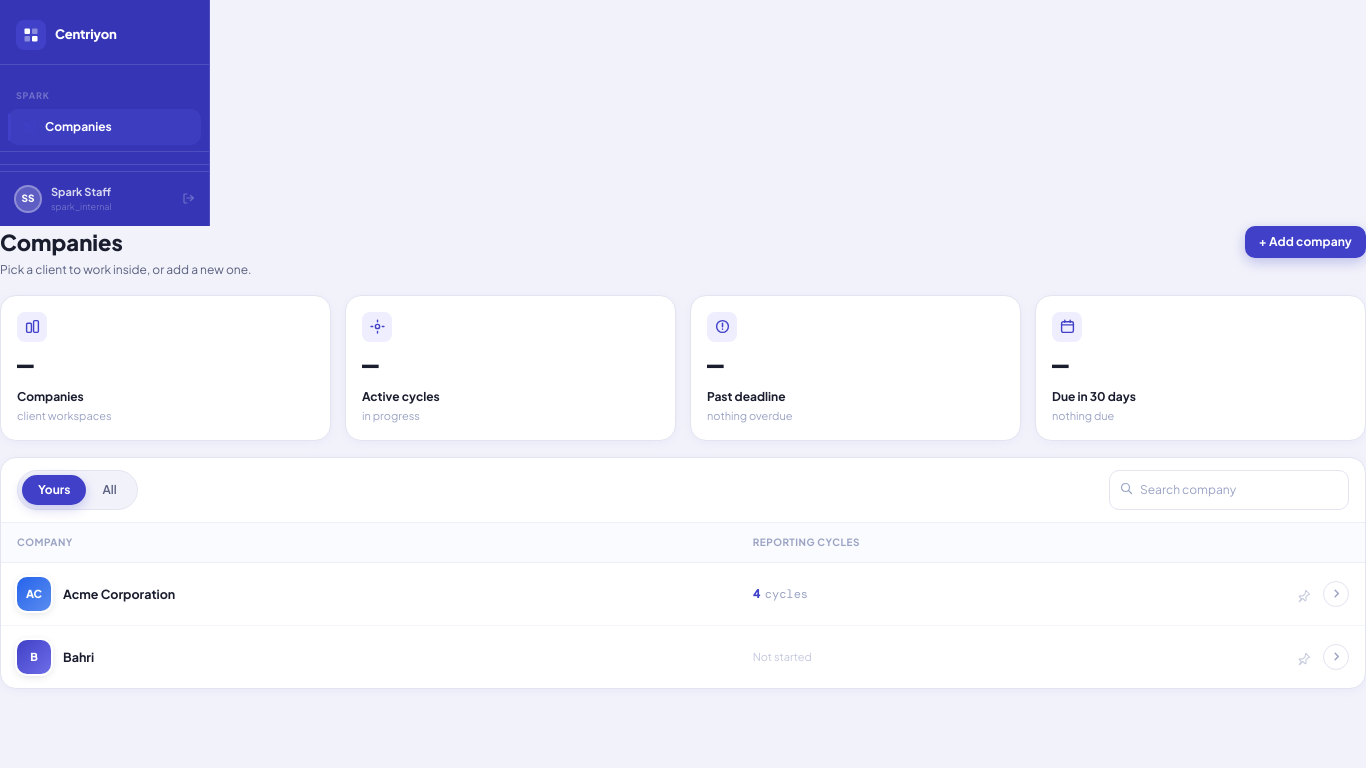
Test: picking and leaving a company, end to end › picking a company opens the nav and persists the choice
Step 1. Click the text "Acme Corporation" → (119, 594), box [63, 585, 175, 603]
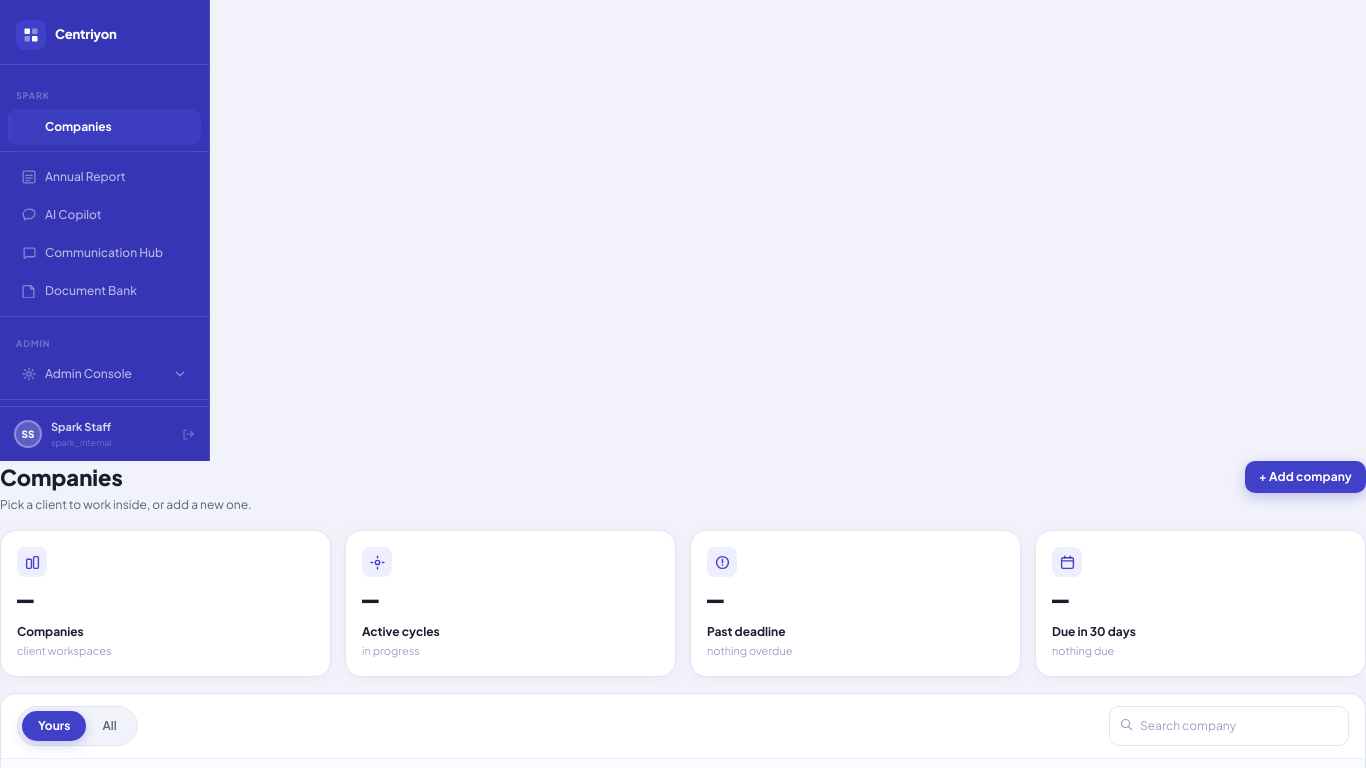
Now the button "AI Copilot" is shown, box [8, 196, 201, 232]
Now the button "Communication Hub" is shown, box [8, 234, 201, 270]
Now the button "Document Bank" is shown, box [8, 272, 201, 308]
